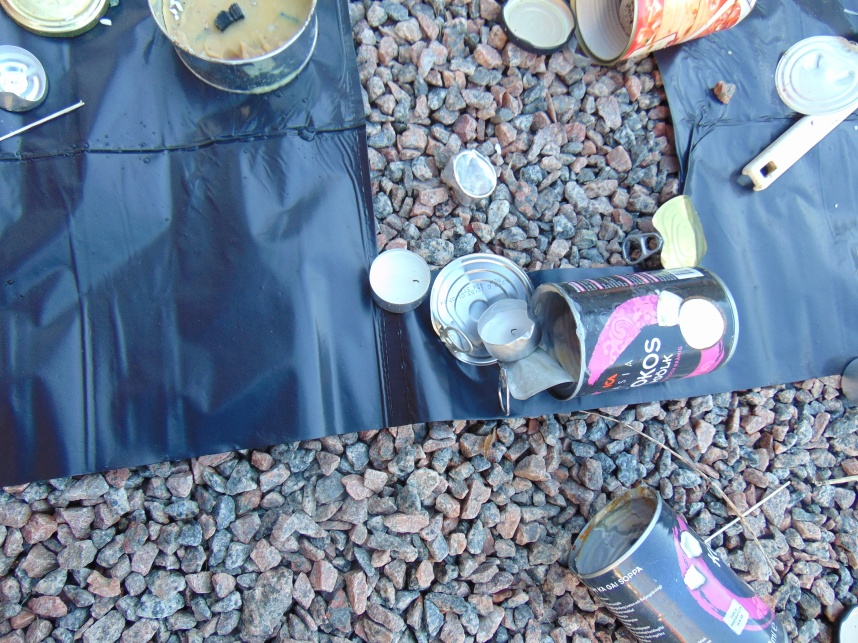metal: (429, 252, 538, 366), (773, 34, 858, 113), (620, 197, 709, 272), (494, 343, 573, 415), (367, 245, 433, 312), (475, 297, 542, 362), (495, 1, 575, 53), (1, 1, 107, 39), (1, 98, 84, 143), (1, 45, 49, 113), (442, 149, 498, 203)
metal_can: (567, 487, 788, 643), (148, 1, 320, 94)
